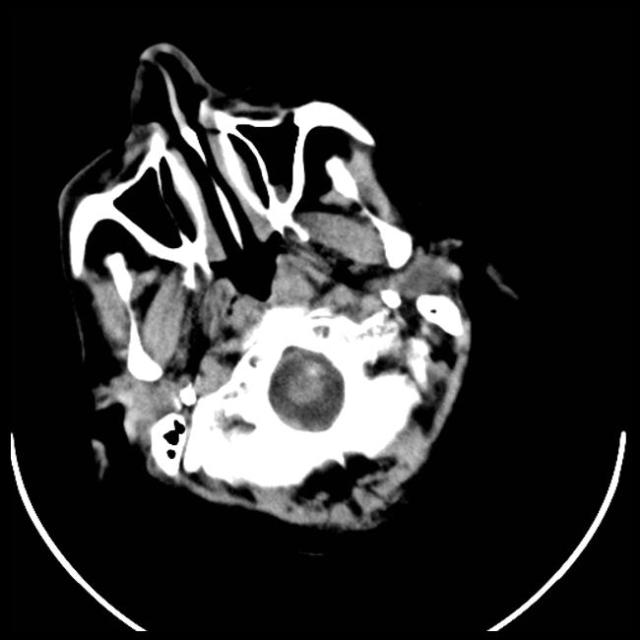lesion: (54, 39, 482, 536)
